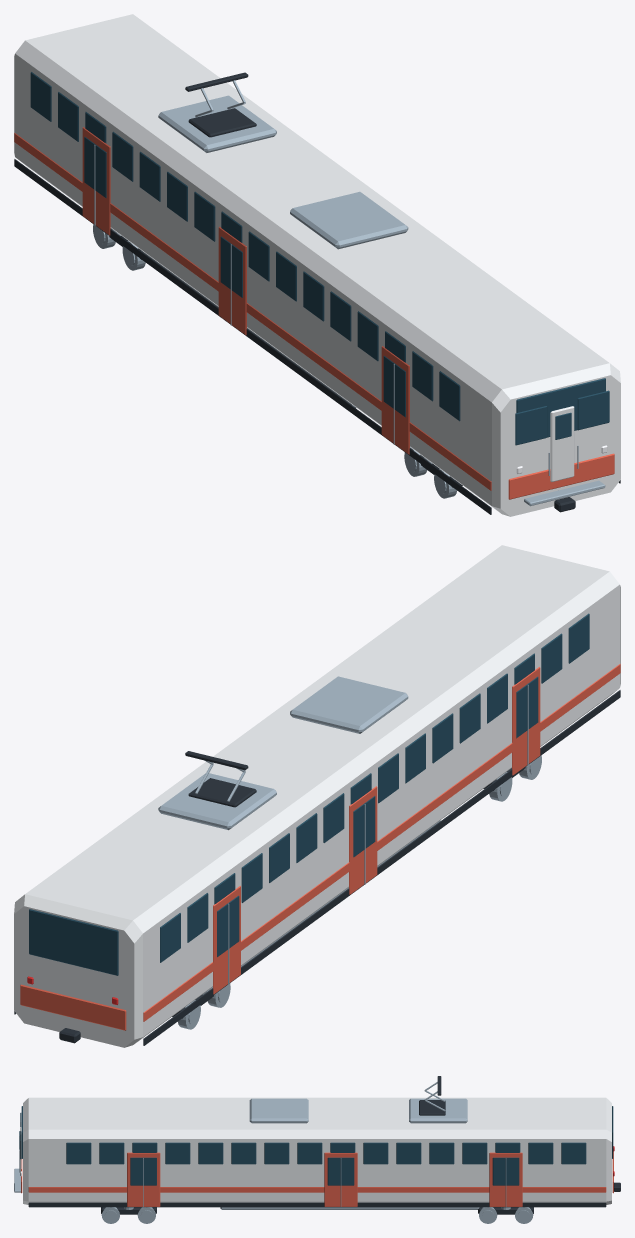
Rendered from taiwan-tra.glb.
3 renders of one model, top to bottom at view 1: azimuth 30°, elevation 25°; view 2: azimuth 150°, elevation 25°; view 3: azimuth 270°, elevation 25°, orthographic. The views are drawn at different scales.
Visible parts, largest first — view 1: Commuter railway shell, Distinctive waist stripe, Roof HVAC module.001, Dark skirt sill, Roof HVAC module, Cab colored front lower panel.001, Cab wrap windshield.001, Rail double-door border, Rail double-door border.002, Rail double-door border.004, TRA center front gangway door, Pantograph base (+19 smaller); view 2: Commuter railway shell, Cab wrap windshield, Distinctive waist stripe, Roof HVAC module.001, Dark skirt sill, Roof HVAC module, Cab colored front lower panel, Rail double-door border.004, Rail double-door border.002, Rail double-door border, Pantograph base, Rail door window.002 (+15 smaller); view 3: Commuter railway shell, Dark skirt sill.001, Distinctive waist stripe.001, Roof HVAC module.001, Rail double-door border.001, Rail double-door border.003, Rail double-door border.005, Roof HVAC module, Rail door window.001, Rail door window.003, Rail door window.005, Underfloor equipment trunk (+17 smaller).
Part boxes in pixels (box(x1,y1,x2,y2)): Commuter railway shell: box(14, 14, 620, 516); Distinctive waist stripe: box(14, 133, 491, 490); Roof HVAC module.001: box(290, 191, 408, 249); Dark skirt sill: box(14, 159, 491, 514); Roof HVAC module: box(158, 95, 276, 152); Cab colored front lower panel.001: box(508, 453, 614, 499); Cab wrap windshield.001: box(516, 378, 605, 437); Rail double-door border: box(82, 127, 110, 235); Rail double-door border.002: box(218, 226, 246, 335); Rail double-door border.004: box(381, 346, 409, 454); TRA center front gangway door: box(550, 406, 574, 481); Pantograph base: box(188, 108, 256, 137); Commuter railway shell: box(14, 545, 620, 1047); Cab wrap windshield: box(29, 909, 118, 975); Distinctive waist stripe: box(143, 664, 620, 1021); Roof HVAC module.001: box(290, 676, 408, 733); Dark skirt sill: box(143, 690, 620, 1045); Roof HVAC module: box(158, 773, 276, 830); Cab colored front lower panel: box(20, 984, 126, 1030); Rail double-door border.004: box(512, 667, 540, 775); Rail double-door border.002: box(349, 786, 377, 894); Rail double-door border: box(213, 886, 240, 994); Pantograph base: box(188, 778, 256, 807); Rail door window.002: box(353, 796, 375, 857); Commuter railway shell: box(23, 1097, 611, 1204); Dark skirt sill.001: box(28, 1202, 606, 1207); Distinctive waist stripe.001: box(28, 1187, 606, 1192); Roof HVAC module.001: box(249, 1098, 308, 1123); Rail double-door border.001: box(489, 1152, 522, 1206); Rail double-door border.003: box(324, 1152, 357, 1206); Rail double-door border.005: box(127, 1152, 160, 1206); Roof HVAC module: box(409, 1098, 467, 1123); Rail door window.001: box(492, 1157, 519, 1185); Rail door window.003: box(327, 1157, 354, 1185); Rail door window.005: box(130, 1157, 156, 1185); Underfloor equipment trunk: box(220, 1207, 479, 1209).
Size of the model in its own units: 3.19 by 4.7 by 20.6.
